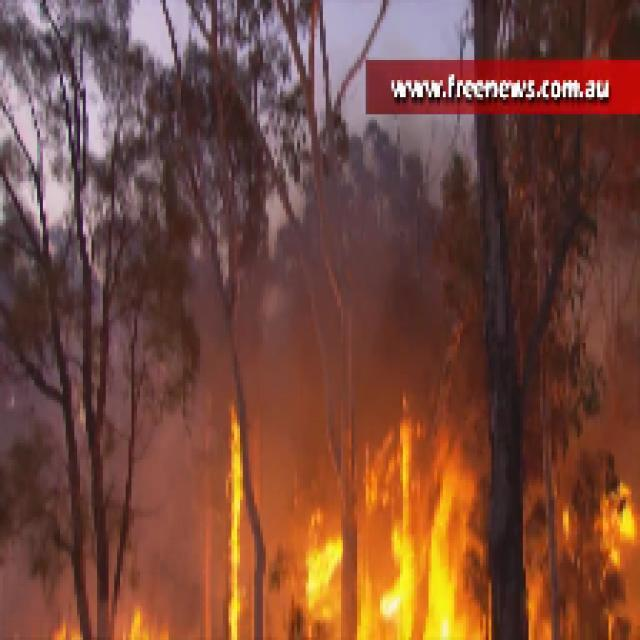Fire: (388, 423, 466, 640), (223, 403, 248, 640), (300, 531, 346, 606), (602, 486, 638, 560)
Smoke: (255, 123, 440, 406), (112, 374, 208, 560)
